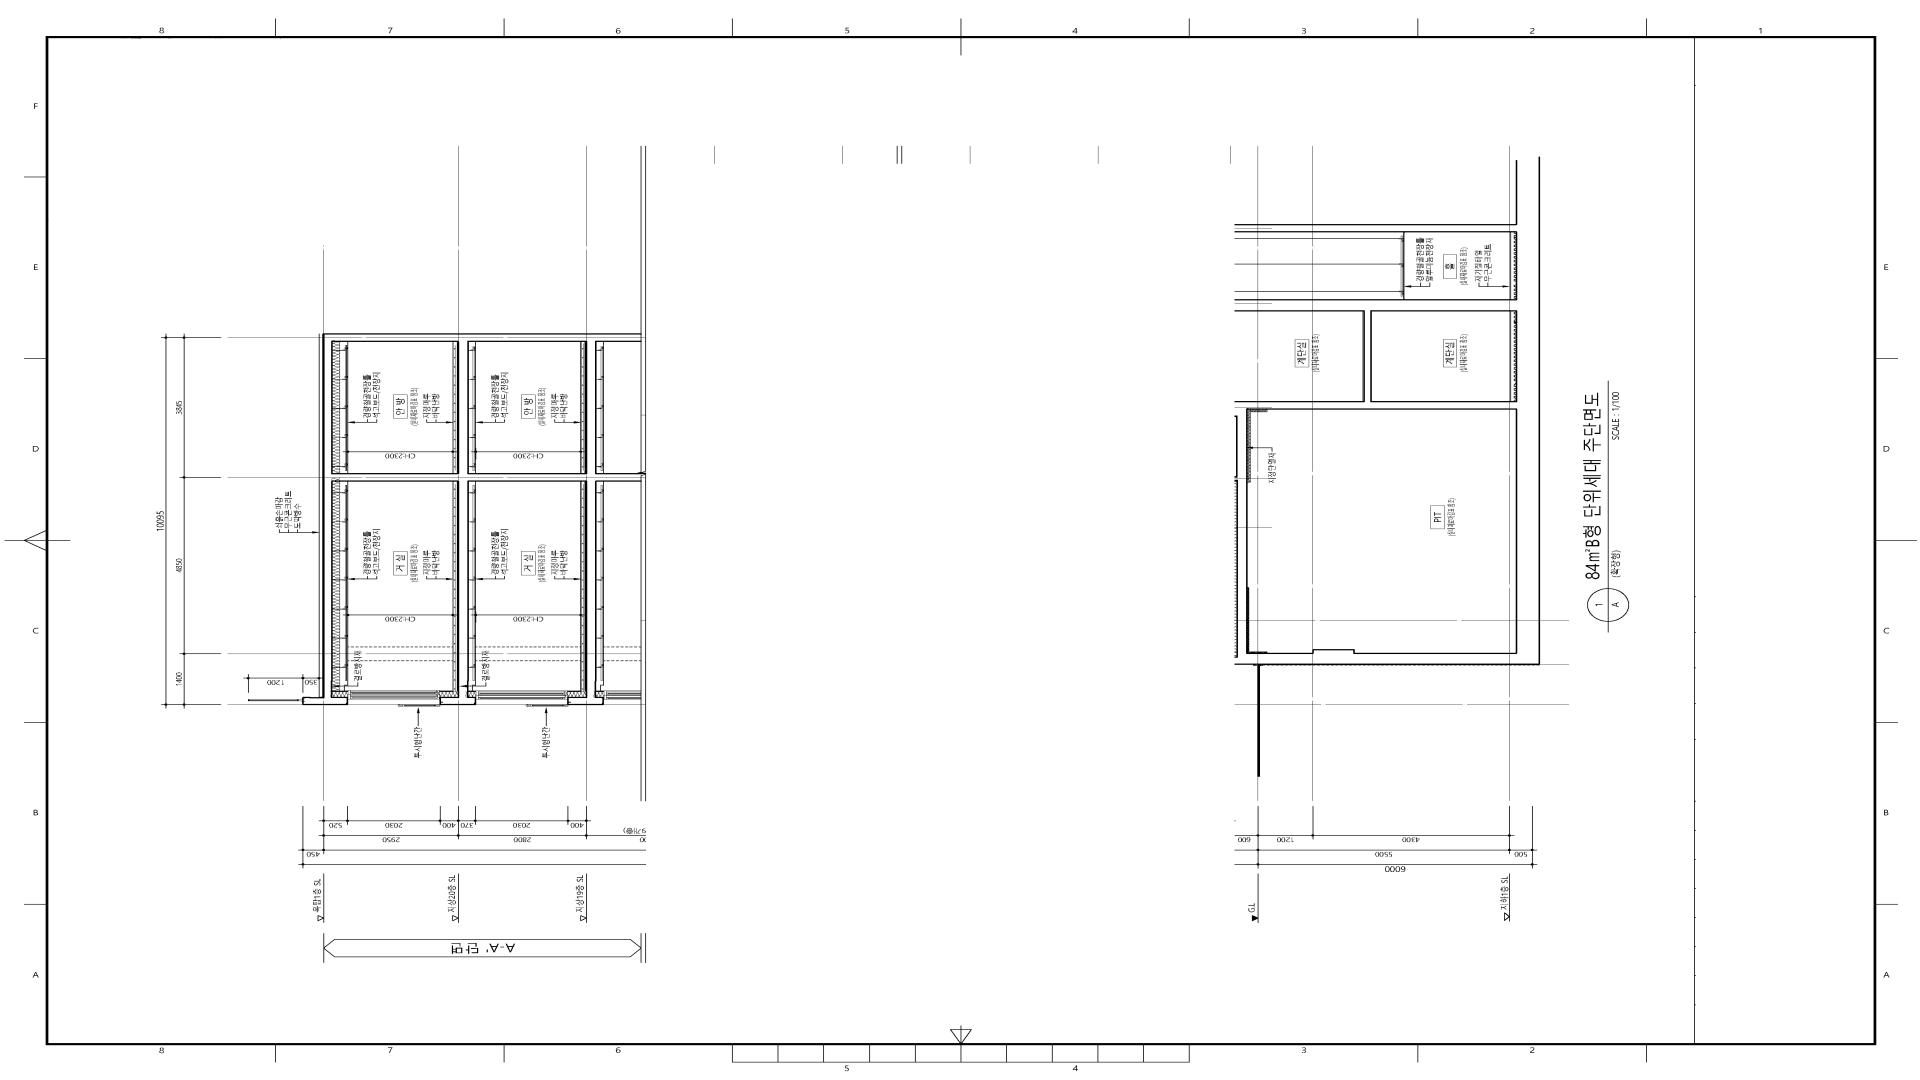wall: (1234, 160, 1540, 665), (302, 334, 641, 705), (1247, 409, 1515, 653), (332, 342, 458, 479)
window: (348, 690, 439, 705), (476, 691, 567, 705)
